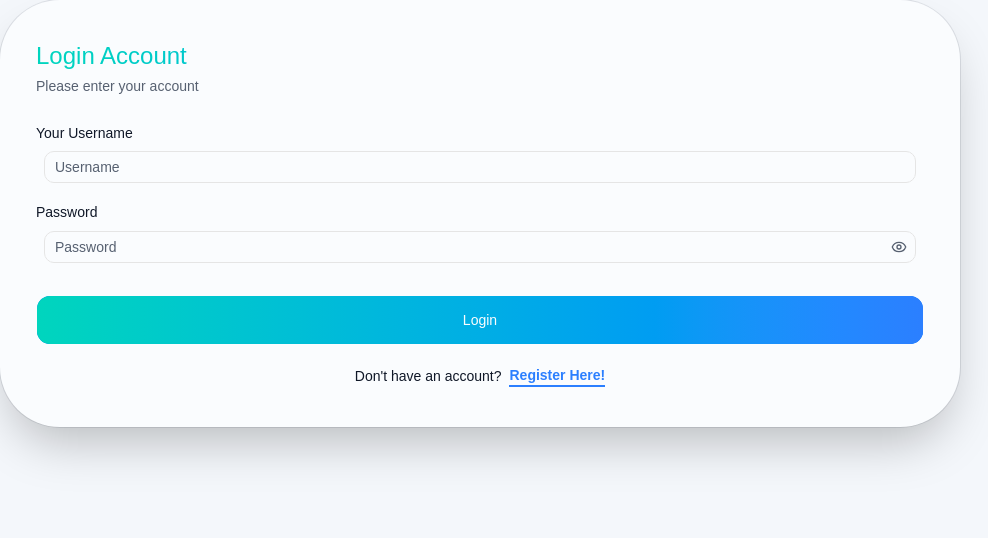
Test: Login Page › clears password validation error when typing
The width and height of the screenshot is (988, 538).
Click the button "Login" at (480, 320), box [36,294,924,344]
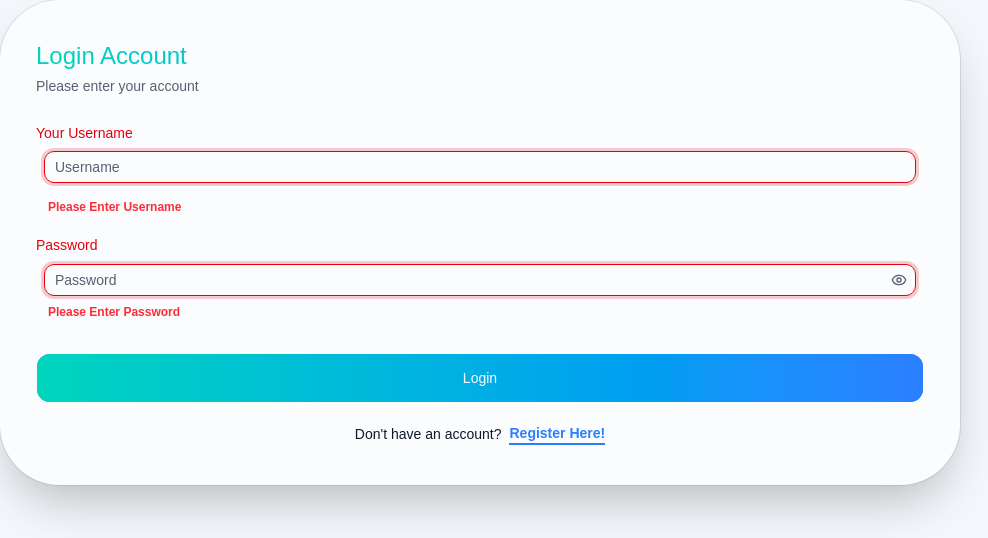
Now the text "Please Enter Password" is shown, box [48,305,180,319]
Type "secret123" into the password field labelled "Password" at (468, 280), box [45,264,891,296]
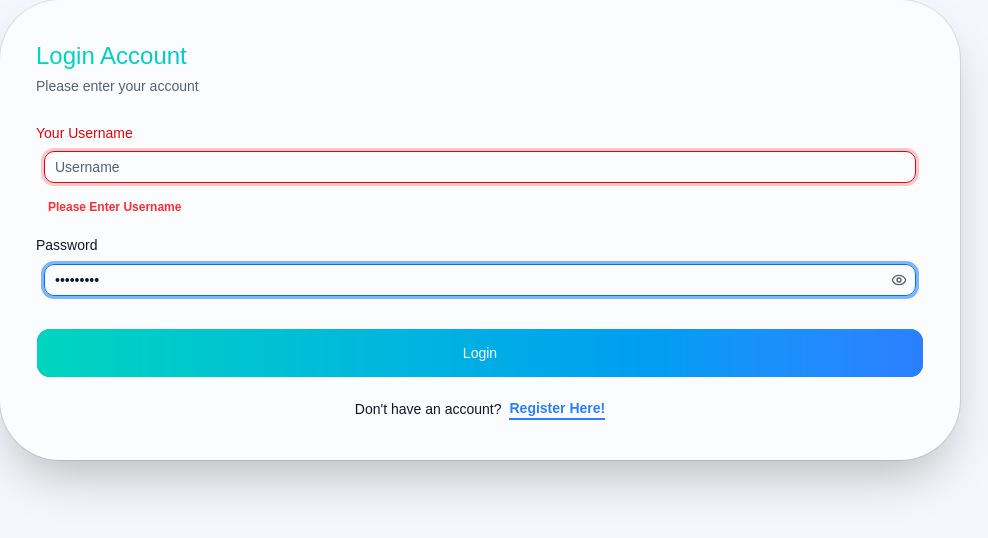
Now the text "Please Enter Password" is gone
